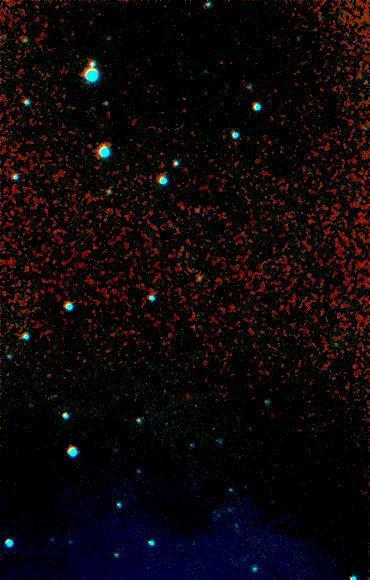star: (176, 528, 206, 558)
